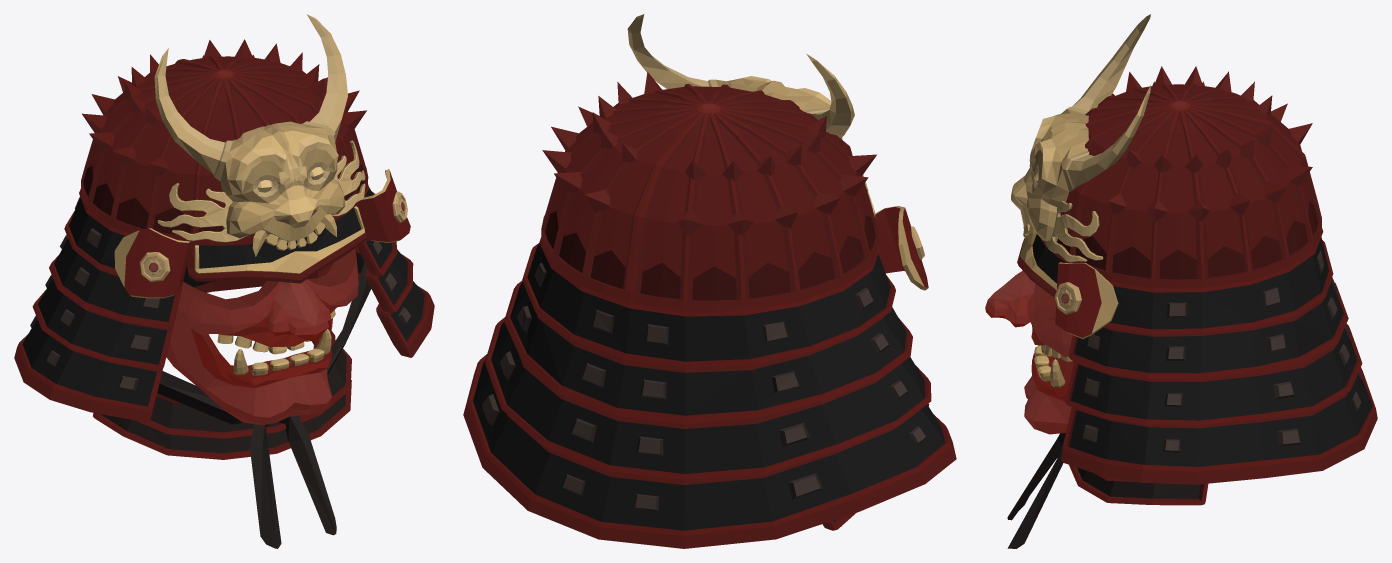
The model's file is samuraiArmorDemonHelmetRedFemale.glb.
3 renders of one model, left to right at view 1: azimuth 30°, elevation 25°; view 2: azimuth 150°, elevation 25°; view 3: azimuth 270°, elevation 25°, orthographic. The views are drawn at different scales.
Visible parts, largest first — view 1: samuraiArmorDemonHelmetRedFemale; view 2: samuraiArmorDemonHelmetRedFemale; view 3: samuraiArmorDemonHelmetRedFemale.
Boxes of the visible parts, <box> form: samuraiArmorDemonHelmetRedFemale: <box>14,14,434,548</box>; samuraiArmorDemonHelmetRedFemale: <box>463,14,956,548</box>; samuraiArmorDemonHelmetRedFemale: <box>985,14,1377,548</box>.
Bounding box in the file's own units: 0.5023 × 0.5754 × 0.4222.
